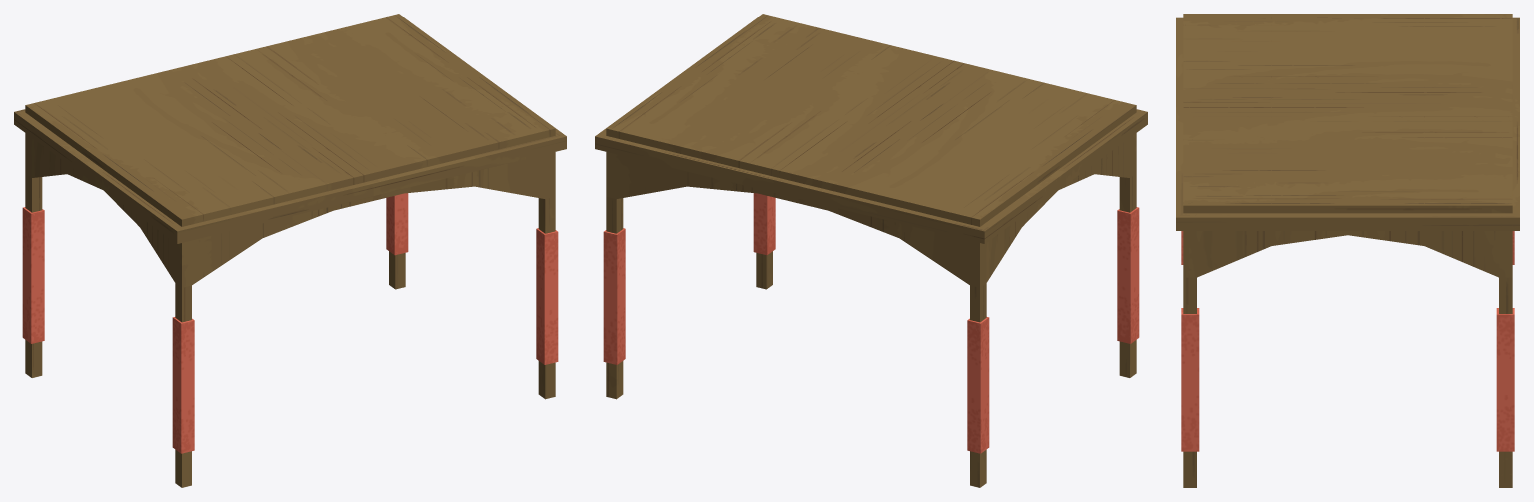
Rendered from Table.fbx.
3 views of the same model, side by side, from view 1: azimuth 30°, elevation 25°; view 2: azimuth 150°, elevation 25°; view 3: azimuth 270°, elevation 25° (orthographic). The views are drawn at different scales.
Parts seen in each view (by area): view 1: Table; view 2: Table; view 3: Table.
Boxes of the visible parts, box(x1,y1,x2,y2) form: Table: box(14, 14, 566, 487); Table: box(595, 14, 1147, 487); Table: box(1176, 14, 1519, 487).
Bounding box in the file's own units: 3711 × 2442 × 2695.
